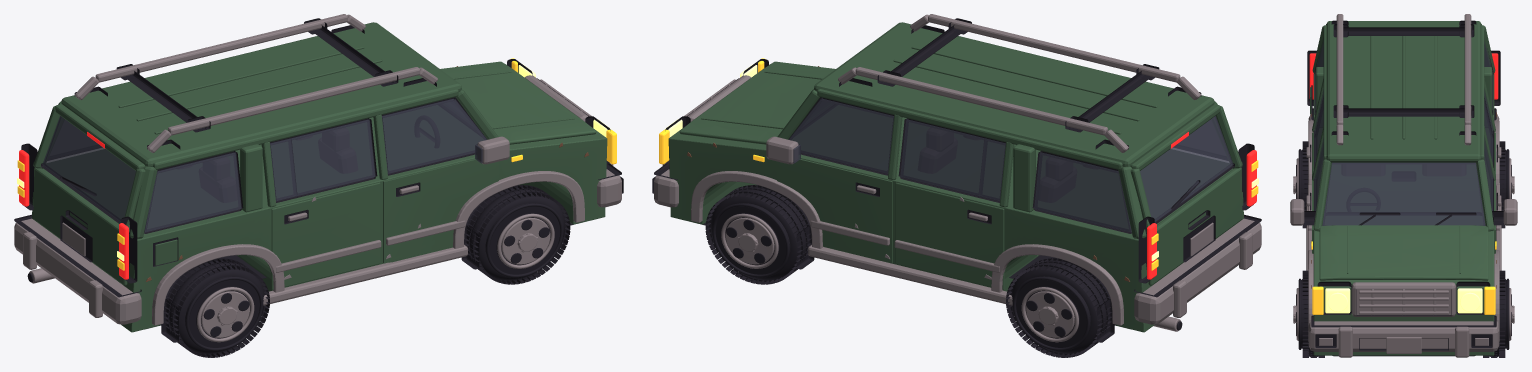
Rendered from veh.suv-green.glb.
3 views of the same model, side by side, from view 1: azimuth 30°, elevation 25°; view 2: azimuth 150°, elevation 25°; view 3: azimuth 270°, elevation 25° (orthographic). The views are drawn at different scales.
Parts seen in each view (by area): view 1: body, object 8, wheelFL, wheelRL, lightsBrake, lightsFront; view 2: body, object 8, wheelFR, wheelRR, lightsBrake, lightsFront; view 3: body, object 8, lightsFront, wheelFL, wheelFR, wheelRL, wheelRR, lightsBrake.
Part boxes in pixels (x1,y1,x2,y2): body: (14, 14, 623, 342); object 8: (33, 97, 509, 289); wheelFL: (464, 185, 570, 284); wheelRL: (163, 258, 269, 357); lightsBrake: (17, 132, 128, 279); lightsFront: (510, 58, 616, 164); body: (652, 14, 1261, 342); object 8: (766, 97, 1242, 289); wheelFR: (705, 185, 811, 284); wheelRR: (1006, 258, 1112, 357); lightsBrake: (1147, 132, 1258, 279); lightsFront: (659, 58, 765, 164); body: (1302, 14, 1505, 357); object 8: (1290, 24, 1517, 268); lightsFront: (1311, 241, 1496, 314); wheelFL: (1293, 270, 1324, 357); wheelFR: (1483, 270, 1514, 357); wheelRL: (1293, 141, 1308, 228); wheelRR: (1499, 141, 1514, 228); lightsBrake: (1309, 53, 1498, 99).
Bounding box in the file's own units: 4.42 × 1.8 × 1.9.
